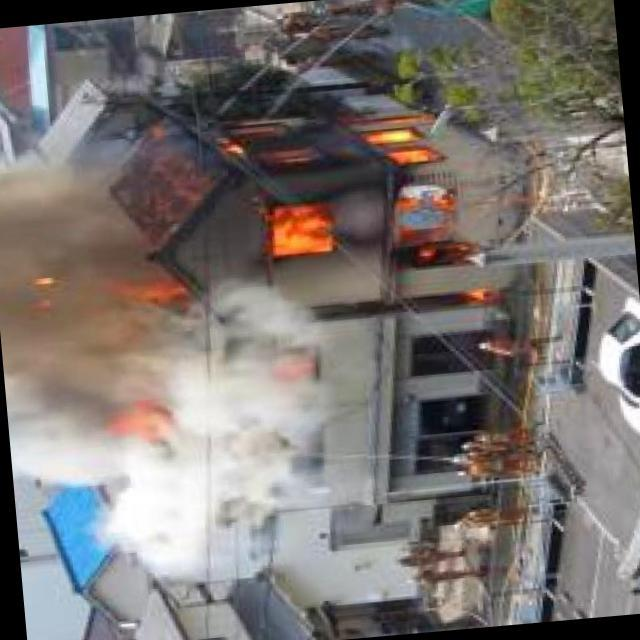Fire: (202, 70, 522, 338)
